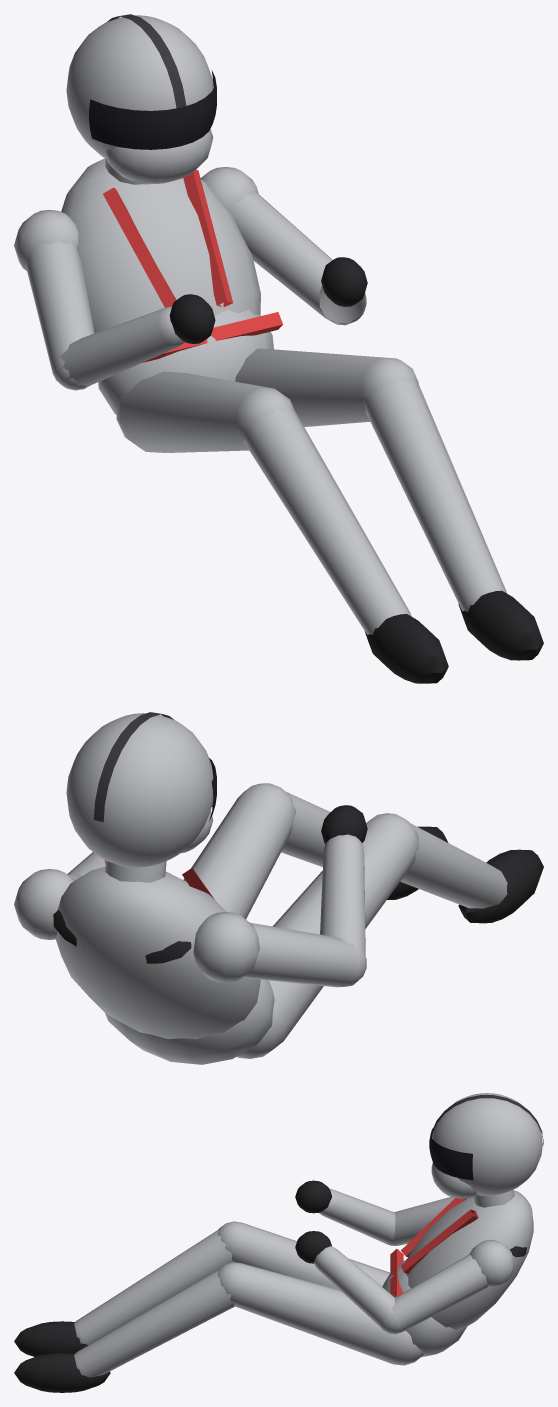
Rendered from posh_lmp2_driver.glb.
3 renders of one model, top to bottom at view 1: azimuth 30°, elevation 25°; view 2: azimuth 150°, elevation 25°; view 3: azimuth 270°, elevation 25°, orthographic. The views are drawn at different scales.
Visible parts, largest first — view 1: posh_lmp2_driver; view 2: posh_lmp2_driver; view 3: posh_lmp2_driver.
Boxes of the visible parts, x1,y1,x2,y2 form: posh_lmp2_driver: [14, 14, 543, 683]; posh_lmp2_driver: [14, 712, 543, 1064]; posh_lmp2_driver: [14, 1093, 543, 1392].
Bounding box in the file's own units: 0.65 × 0.827 × 1.42.
